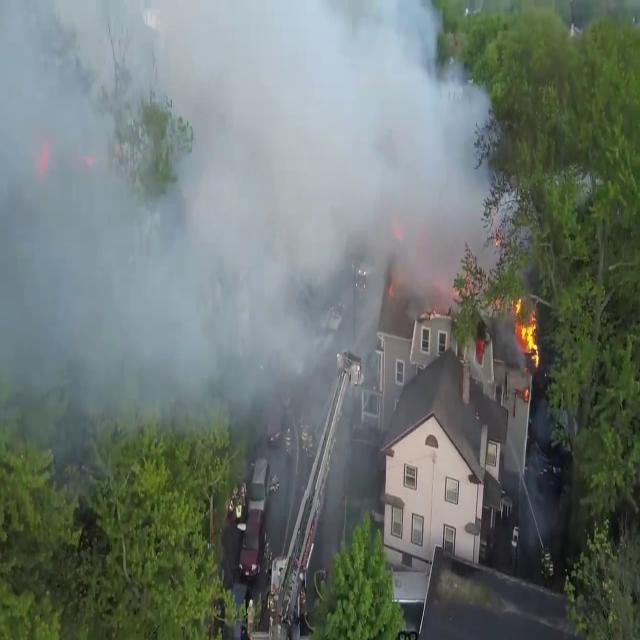Fire: (512, 299, 542, 370)
Smoke: (0, 0, 496, 477)
